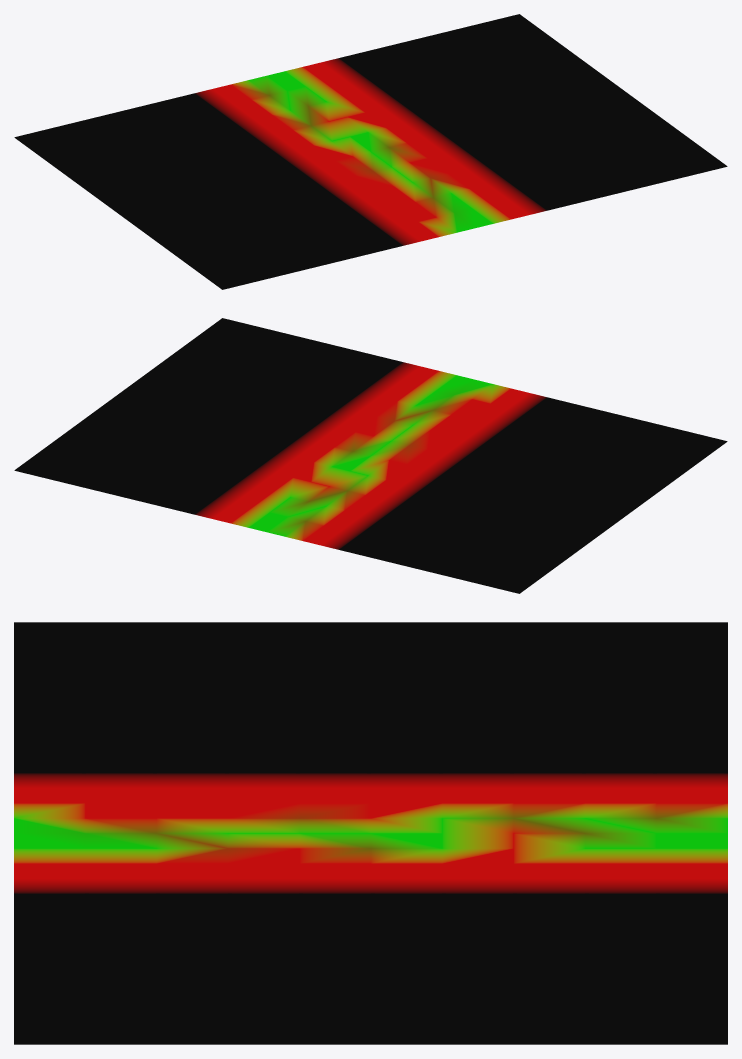
The model's file is Section_WayLine02_Forest_Terrain.fbx.
3 renders of one model, top to bottom at view 1: azimuth 30°, elevation 25°; view 2: azimuth 150°, elevation 25°; view 3: azimuth 270°, elevation 25°, orthographic. The views are drawn at different scales.
Parts seen in each view (by area): view 1: Section_WayLine02_Forest_Terrain; view 2: Section_WayLine02_Forest_Terrain; view 3: Section_WayLine02_Forest_Terrain.
Boxes of the visible parts, x1,y1,x2,y2 form: Section_WayLine02_Forest_Terrain: (14, 14, 727, 289); Section_WayLine02_Forest_Terrain: (14, 318, 727, 593); Section_WayLine02_Forest_Terrain: (14, 622, 727, 1044).
Size of the model in its own units: 7000 by 0 by 5000.
